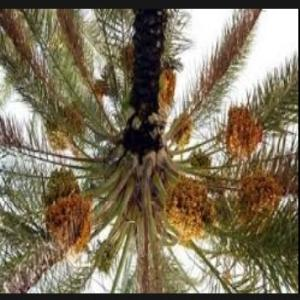palm tree: (0, 6, 298, 292)
